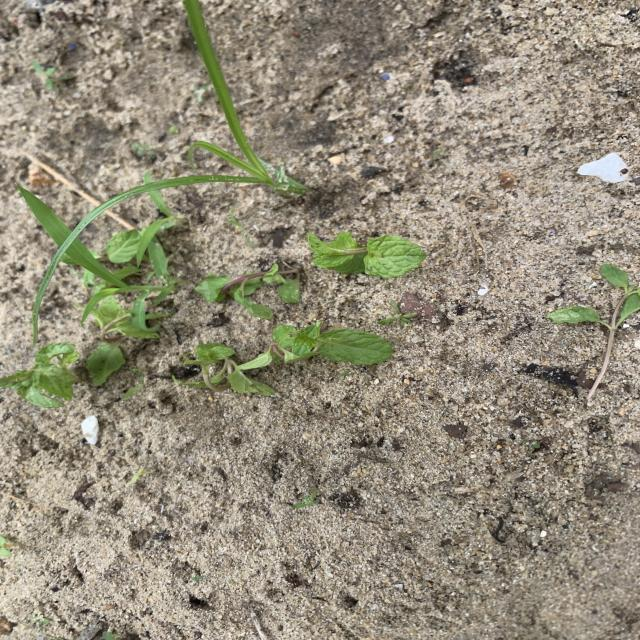crop: (547, 264, 640, 400), (239, 323, 393, 370), (86, 295, 154, 386), (195, 263, 300, 320), (307, 232, 426, 278), (175, 343, 274, 396), (0, 343, 79, 408), (91, 228, 148, 263)
weed: (31, 0, 306, 343), (65, 239, 175, 322), (137, 190, 185, 267), (228, 212, 261, 248), (377, 301, 418, 327), (32, 61, 62, 90), (292, 489, 319, 509), (132, 142, 157, 163), (127, 468, 154, 486), (121, 383, 141, 400), (0, 535, 14, 559), (168, 117, 181, 135), (142, 375, 160, 385), (102, 629, 118, 640), (433, 150, 443, 159)
